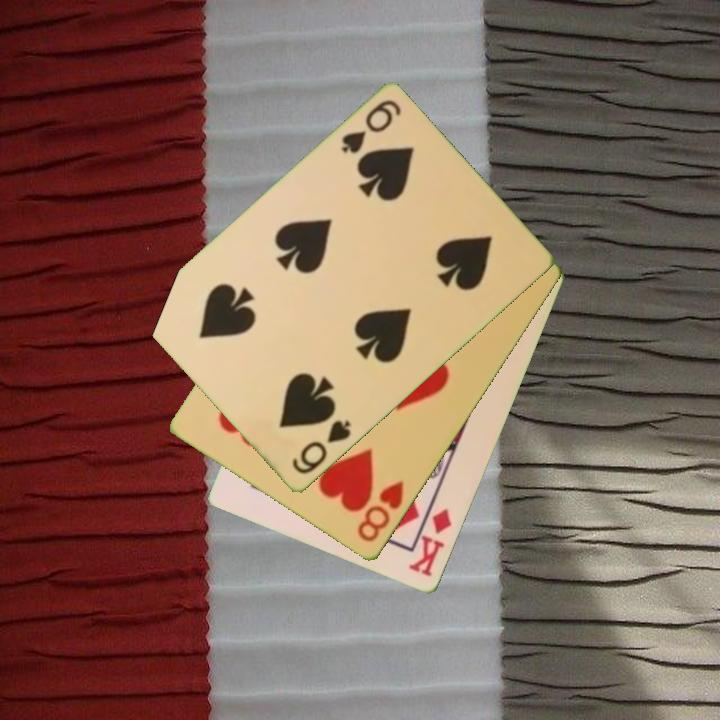6s: (337, 96, 404, 157), (288, 417, 354, 478)
8h: (353, 478, 407, 546)
Kd: (405, 505, 455, 580)
